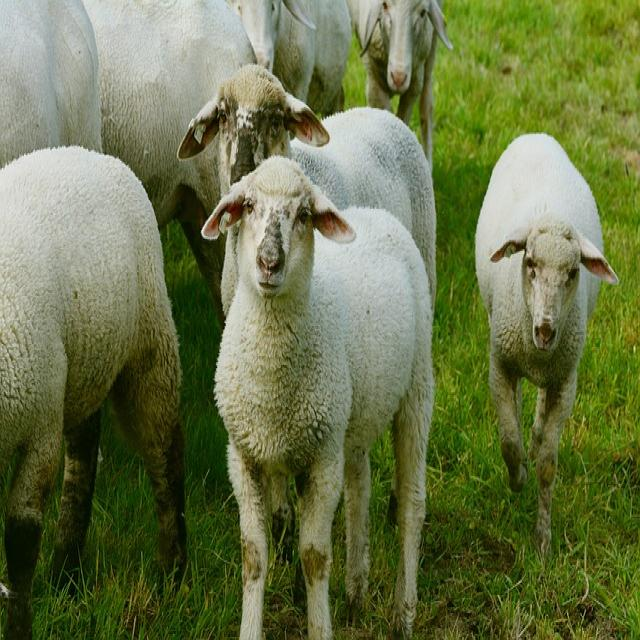goat: (200, 156, 435, 640), (0, 147, 188, 640), (474, 134, 618, 554), (204, 65, 438, 296), (74, 0, 255, 228), (348, 0, 453, 164)
